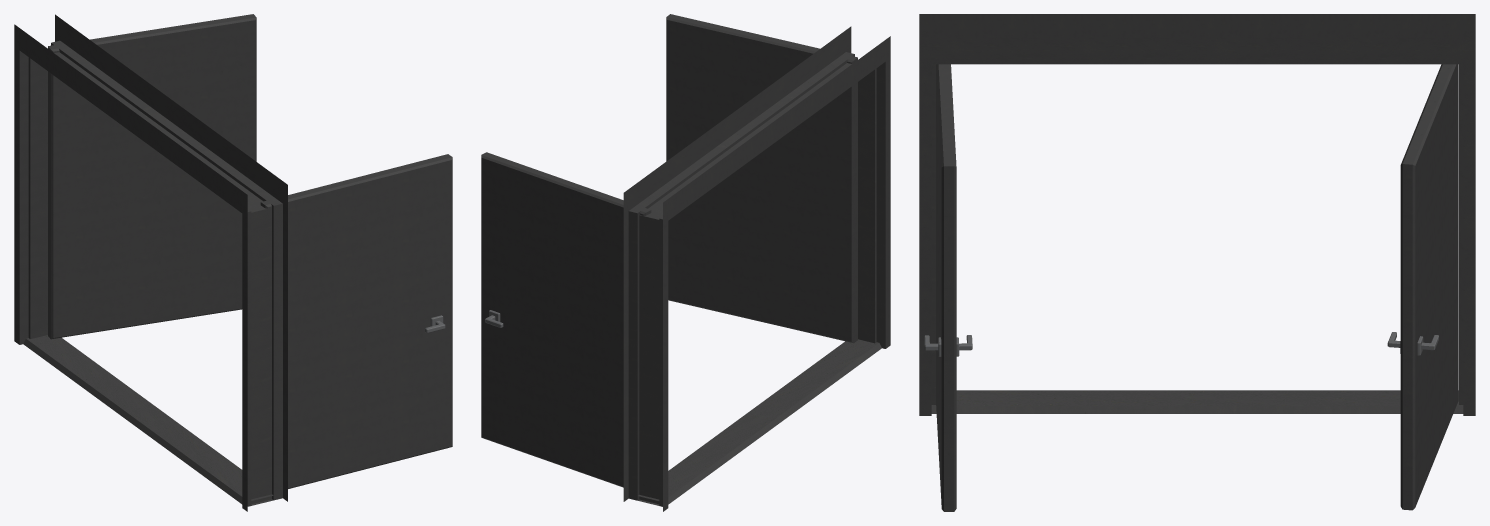
Rendered from SM_double_doors_a_400_300_open.fbx.
3 renders of one model, left to right at view 1: azimuth 30°, elevation 25°; view 2: azimuth 150°, elevation 25°; view 3: azimuth 270°, elevation 25°, orthographic. The views are drawn at different scales.
Parts seen in each view (by area): view 1: polySurface860; view 2: polySurface860; view 3: polySurface860, polySurface852.
Part boxes in pixels (box(x1,y1,x2,y2)): polySurface860: box(14, 14, 452, 511); polySurface860: box(481, 14, 890, 511); polySurface860: box(919, 14, 1475, 511); polySurface852: box(924, 332, 1438, 356).
Size of the model in its own units: 2.13 by 3 by 4.
